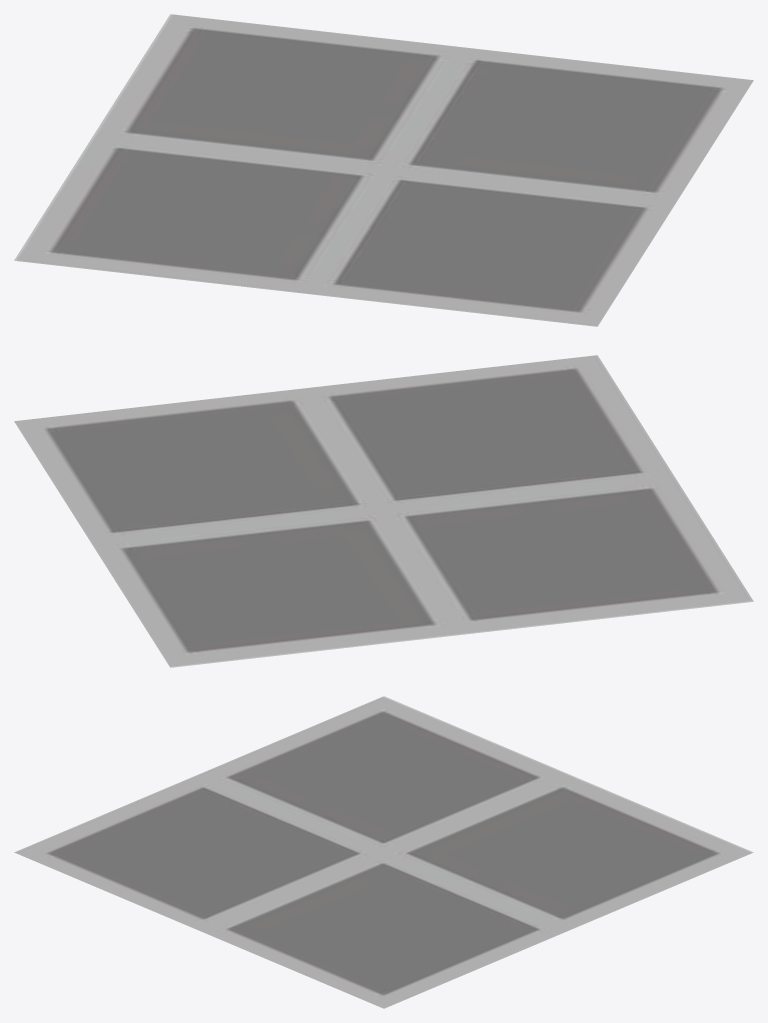
The model's file is w_public_transport_platform.glb.
The picture shows the model from 3 angles, top to bottom: view 1: azimuth 30°, elevation 25°; view 2: azimuth 150°, elevation 25°; view 3: azimuth 270°, elevation 25°; orthographic projection. The views are drawn at different scales.
Parts seen in each view (by area): view 1: Plane; view 2: Plane; view 3: Plane.
Part boxes in pixels (box(x1,y1,x2,y2)): Plane: box(14, 14, 753, 326); Plane: box(14, 355, 753, 667); Plane: box(14, 696, 753, 1008).
Size of the model in its own units: 0.462 by 0 by 0.462.
Materials: 1 (1 with a texture image).
